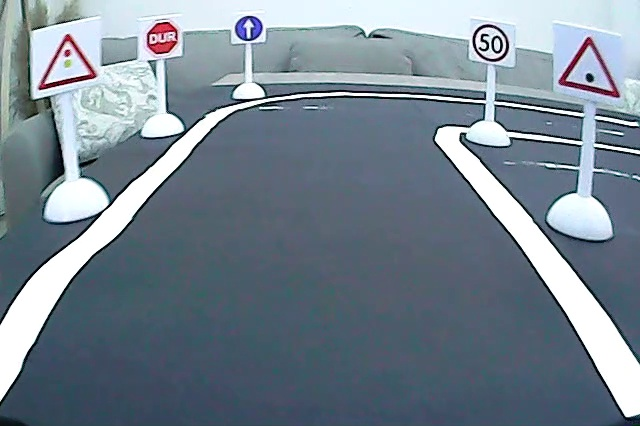green light: (555, 33, 623, 102)
red light: (34, 28, 100, 91)
speed limit 50: (469, 23, 512, 63)
stop sign: (145, 19, 180, 58)
